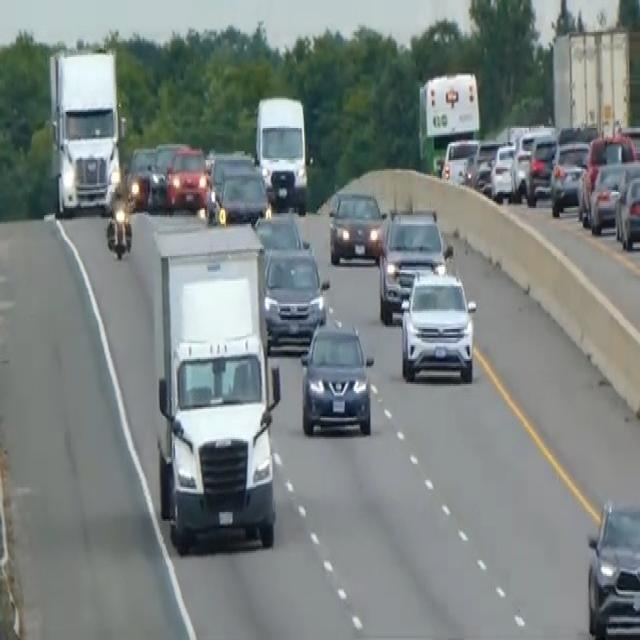car: (398, 267, 477, 384), (298, 318, 374, 438), (377, 206, 446, 322), (585, 496, 639, 638), (261, 244, 328, 348), (327, 188, 385, 265), (588, 156, 639, 234), (214, 167, 271, 226), (205, 150, 255, 213), (549, 137, 589, 215), (164, 144, 209, 212), (148, 140, 187, 207), (524, 133, 557, 204), (125, 144, 158, 210), (253, 210, 304, 252), (465, 137, 503, 190), (613, 172, 639, 249), (440, 135, 478, 183), (489, 140, 517, 202)
lorry: (130, 208, 282, 553), (47, 46, 122, 217)
motorcycle: (104, 185, 133, 259)
